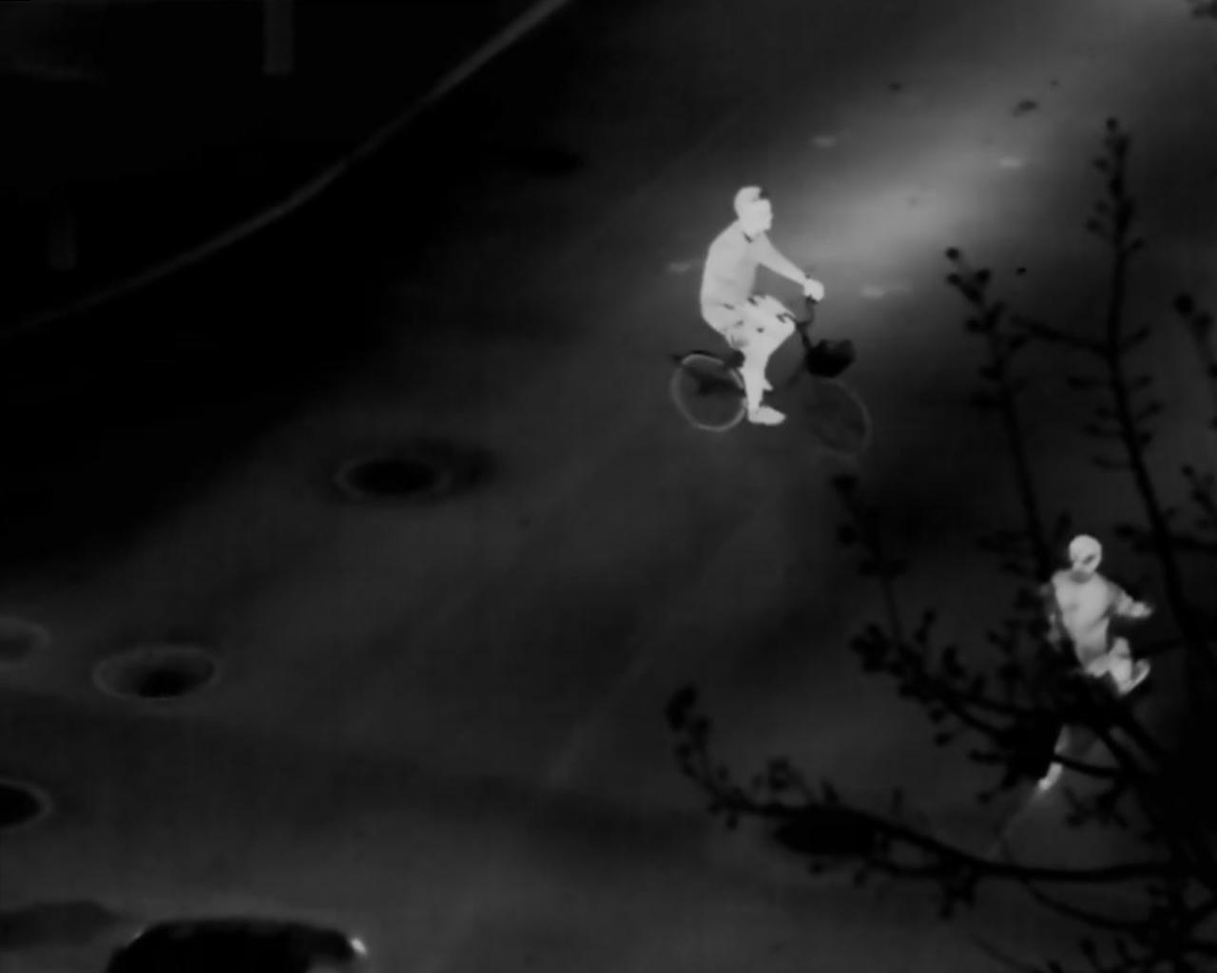person: (699, 185, 823, 428), (1042, 534, 1152, 698)
